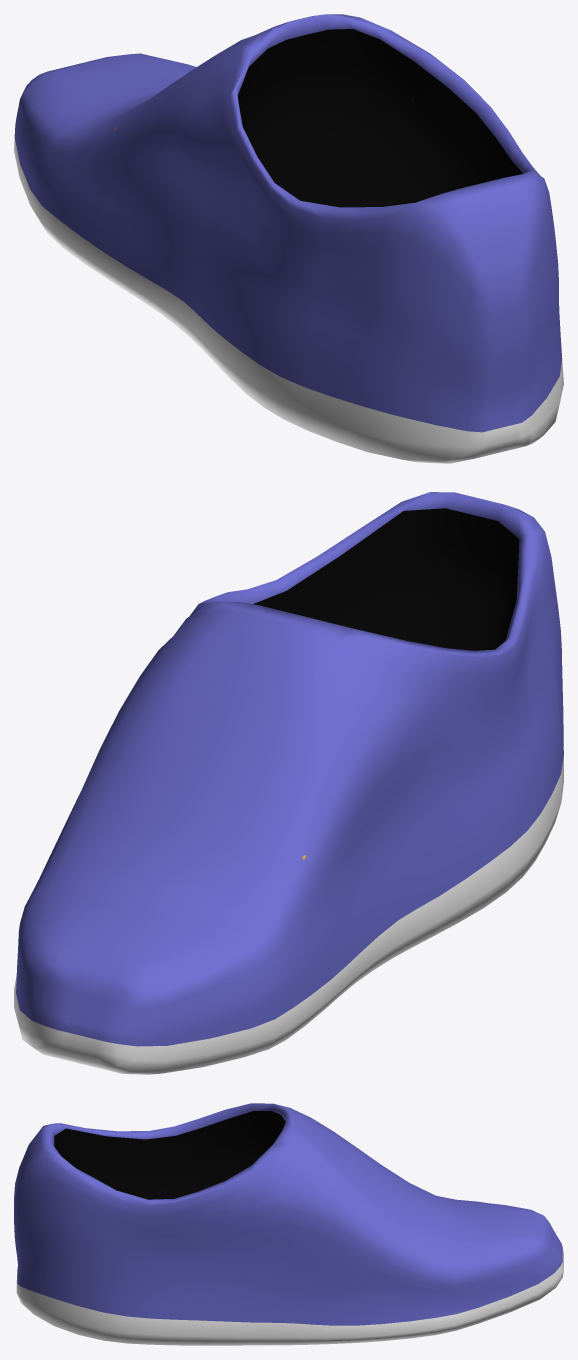
Rendered from shoe.fbx.
3 views of the same model, one above another, from view 1: azimuth 30°, elevation 25°; view 2: azimuth 150°, elevation 25°; view 3: azimuth 270°, elevation 25° (orthographic). The views are drawn at different scales.
Visible parts, largest first — view 1: pCube1; view 2: pCube1; view 3: pCube1.
Part boxes in pixels (x1,y1,x2,y2): pCube1: [14, 14, 563, 463]; pCube1: [14, 492, 563, 1074]; pCube1: [14, 1103, 563, 1345].
Size of the model in its own units: 1.12 by 1.24 by 3.17.
